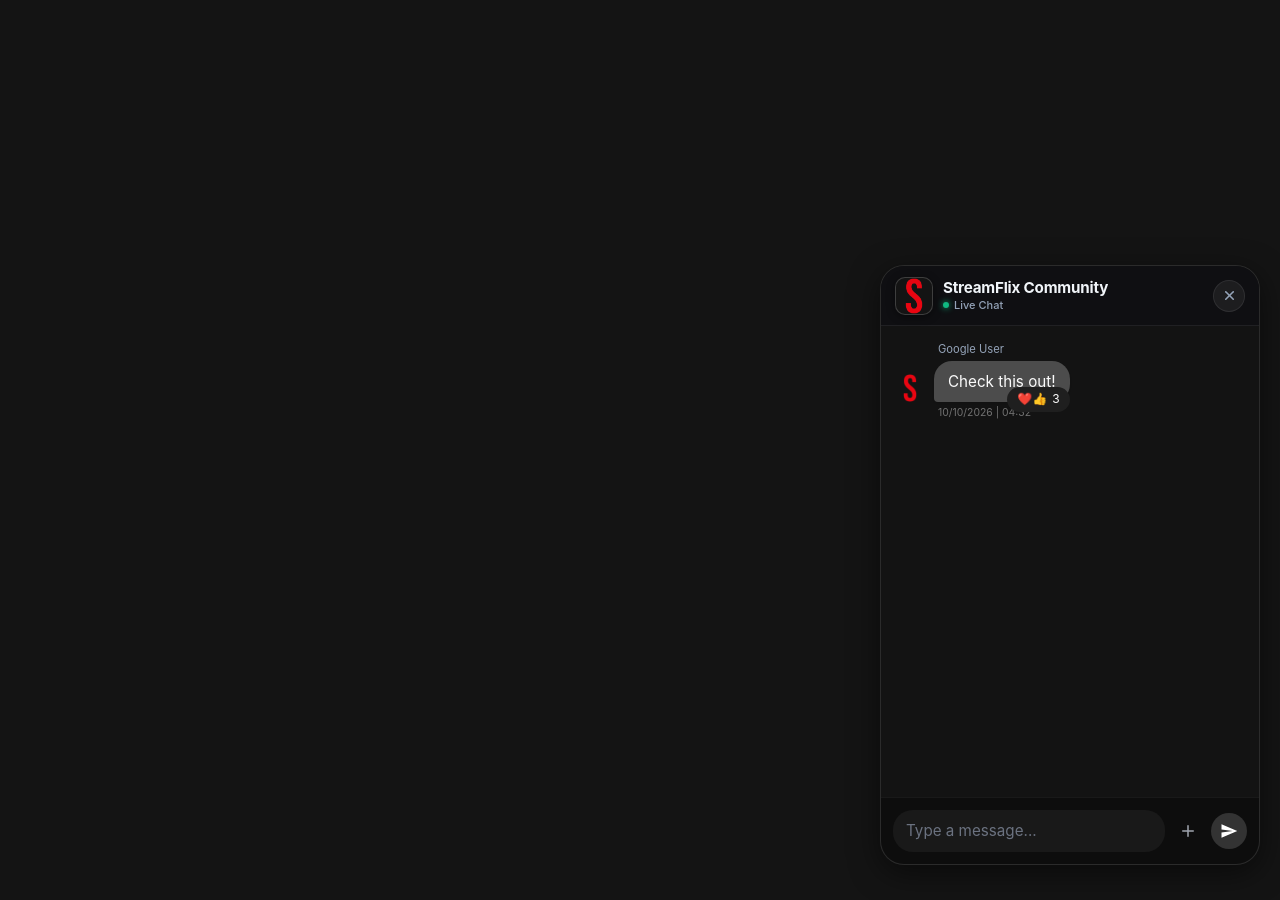
GlobalChat v2 Reactions Rendering › renders reaction badge and opens reaction detail view resolving names from profile cache
The width and height of the screenshot is (1280, 900).
expect the element with class "gc-reaction-badge" shows "❤️👍": met, box [1017,391,1047,406]
expect the element with class "gc-reaction-badge" shows "3": met, box [1052,391,1060,406]
Click the element with class "gc-reaction-badge": click(1038, 400) [1007,387,1070,412]
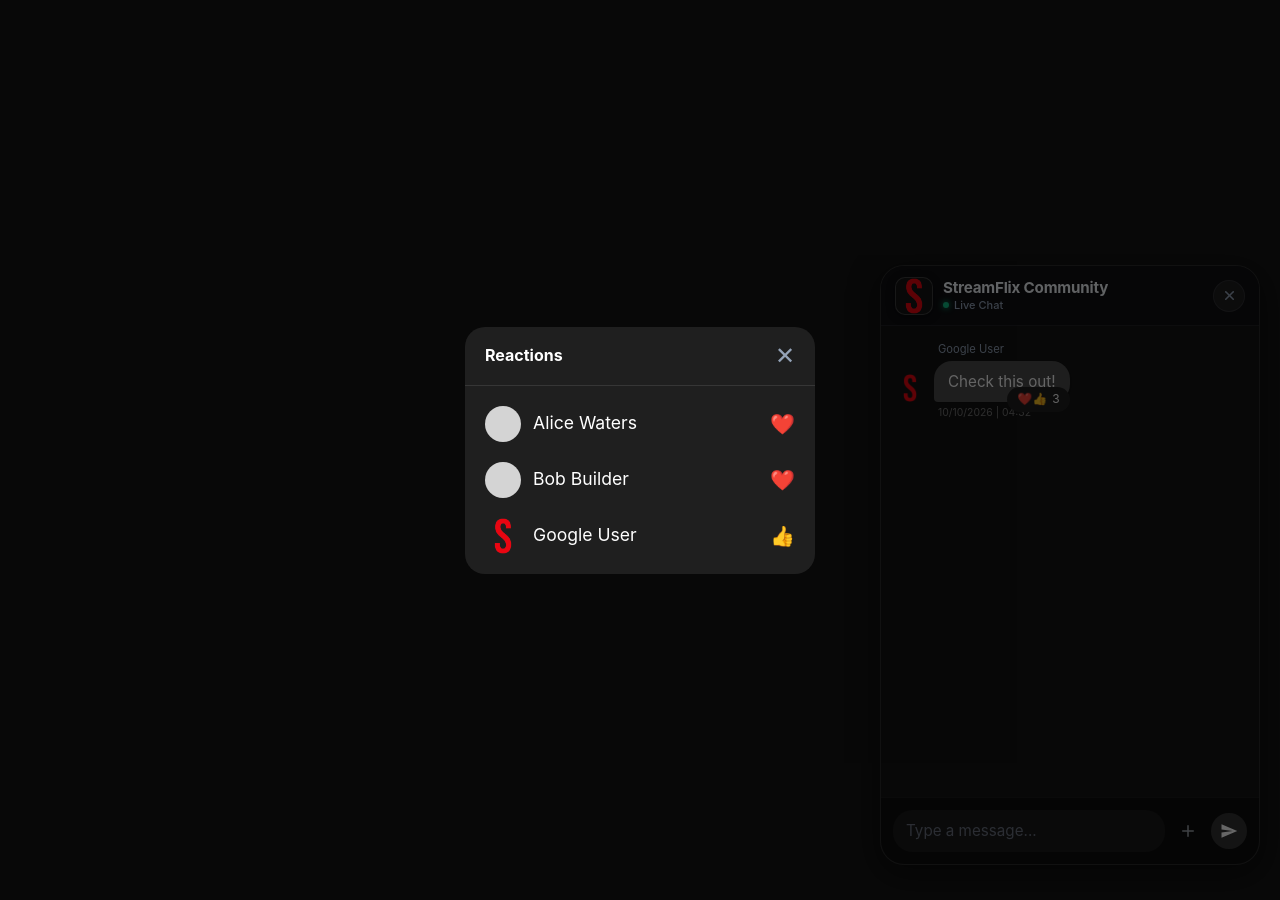
expect the element with class "gc-reaction-view" is shown: met
expect the text "Alice Waters" is shown: met, box [533,412,637,433]
expect the text "Bob Builder" is shown: met, box [533,468,629,489]
